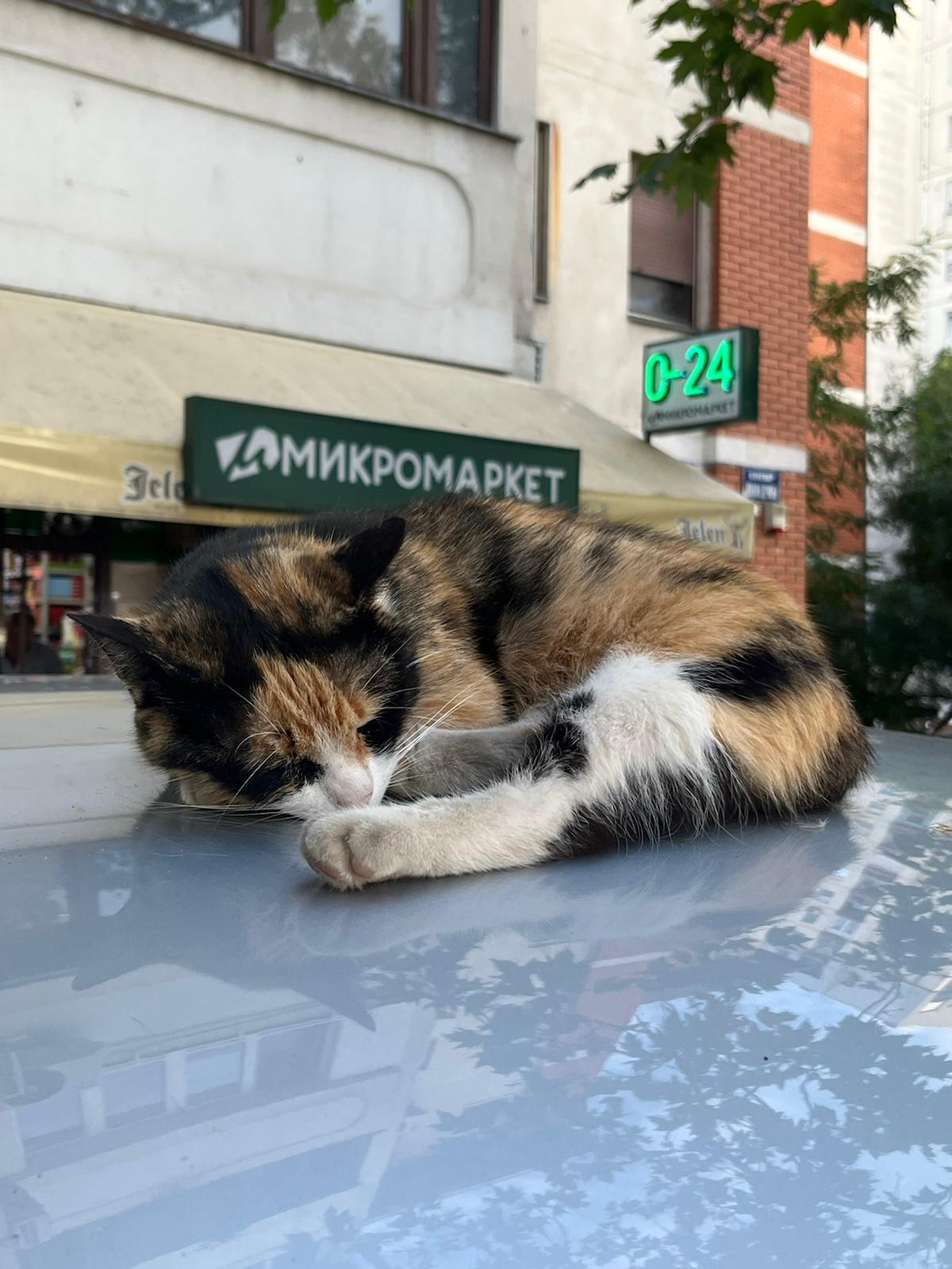macka: (66, 491, 862, 886)
